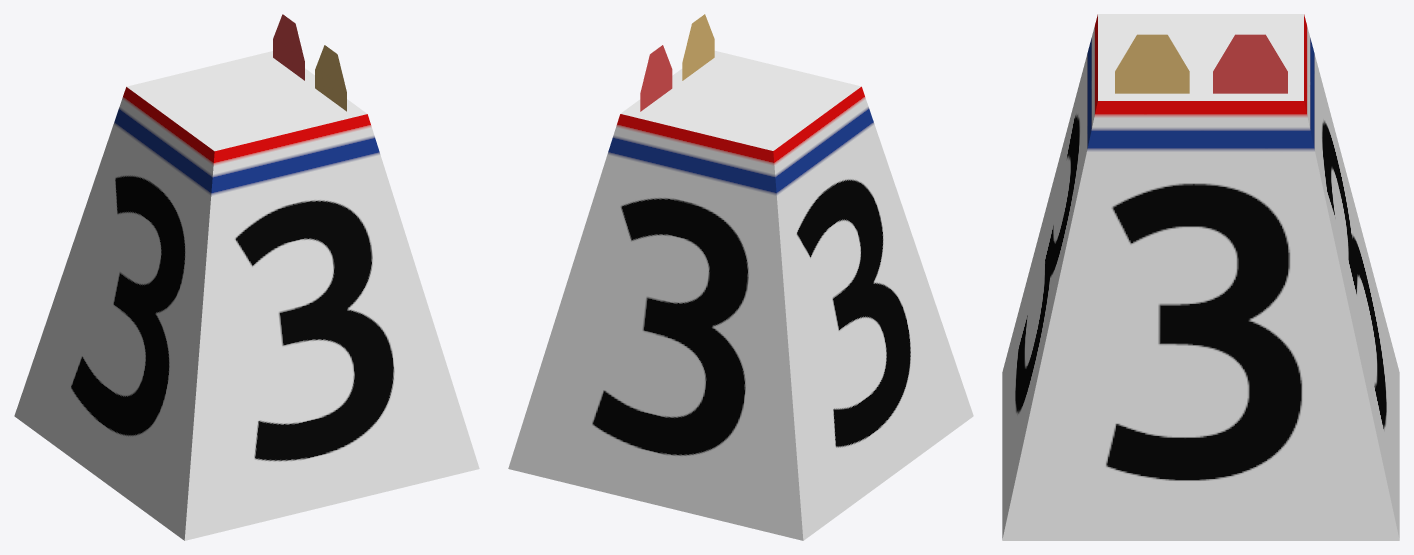
The model's file is Marker_Line3.FBX.
3 renders of one model, left to right at view 1: azimuth 30°, elevation 25°; view 2: azimuth 150°, elevation 25°; view 3: azimuth 270°, elevation 25°, orthographic. The views are drawn at different scales.
Visible parts, largest first — view 1: Marker_Line3; view 2: Marker_Line3; view 3: Marker_Line3.
Part boxes in pixels (x1,y1,x2,y2): Marker_Line3: (14, 14, 479, 540); Marker_Line3: (508, 14, 973, 540); Marker_Line3: (1002, 14, 1399, 540).
Size of the model in its own units: 6.76 by 8.6 by 6.76.
